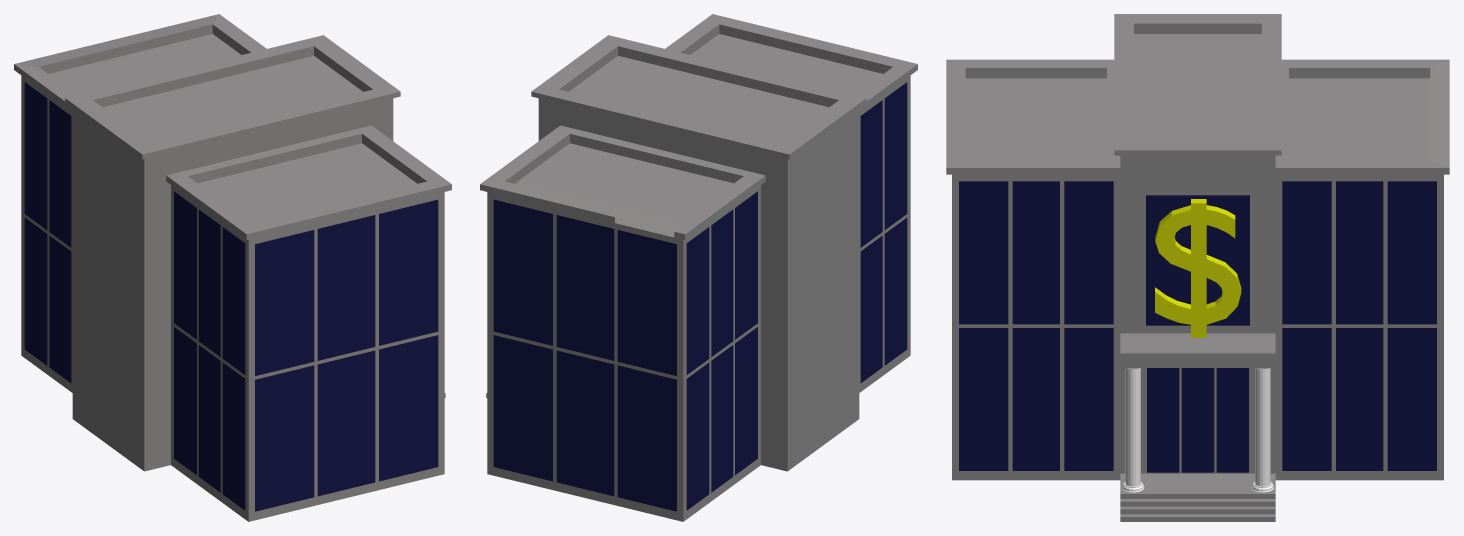
The model's file is fac_homeBase2.fbx.
The picture shows the model from 3 angles, left to right: view 1: azimuth 30°, elevation 25°; view 2: azimuth 150°, elevation 25°; view 3: azimuth 270°, elevation 25°; orthographic projection. The views are drawn at different scales.
Visible parts, largest first — view 1: homebase_joined; view 2: homebase_joined; view 3: homebase_joined.
Boxes of the visible parts, x1,y1,x2,y2 form: homebase_joined: (14, 14, 451, 521); homebase_joined: (480, 14, 917, 521); homebase_joined: (946, 14, 1449, 521).
Size of the model in its own units: 653 by 653 by 860.
